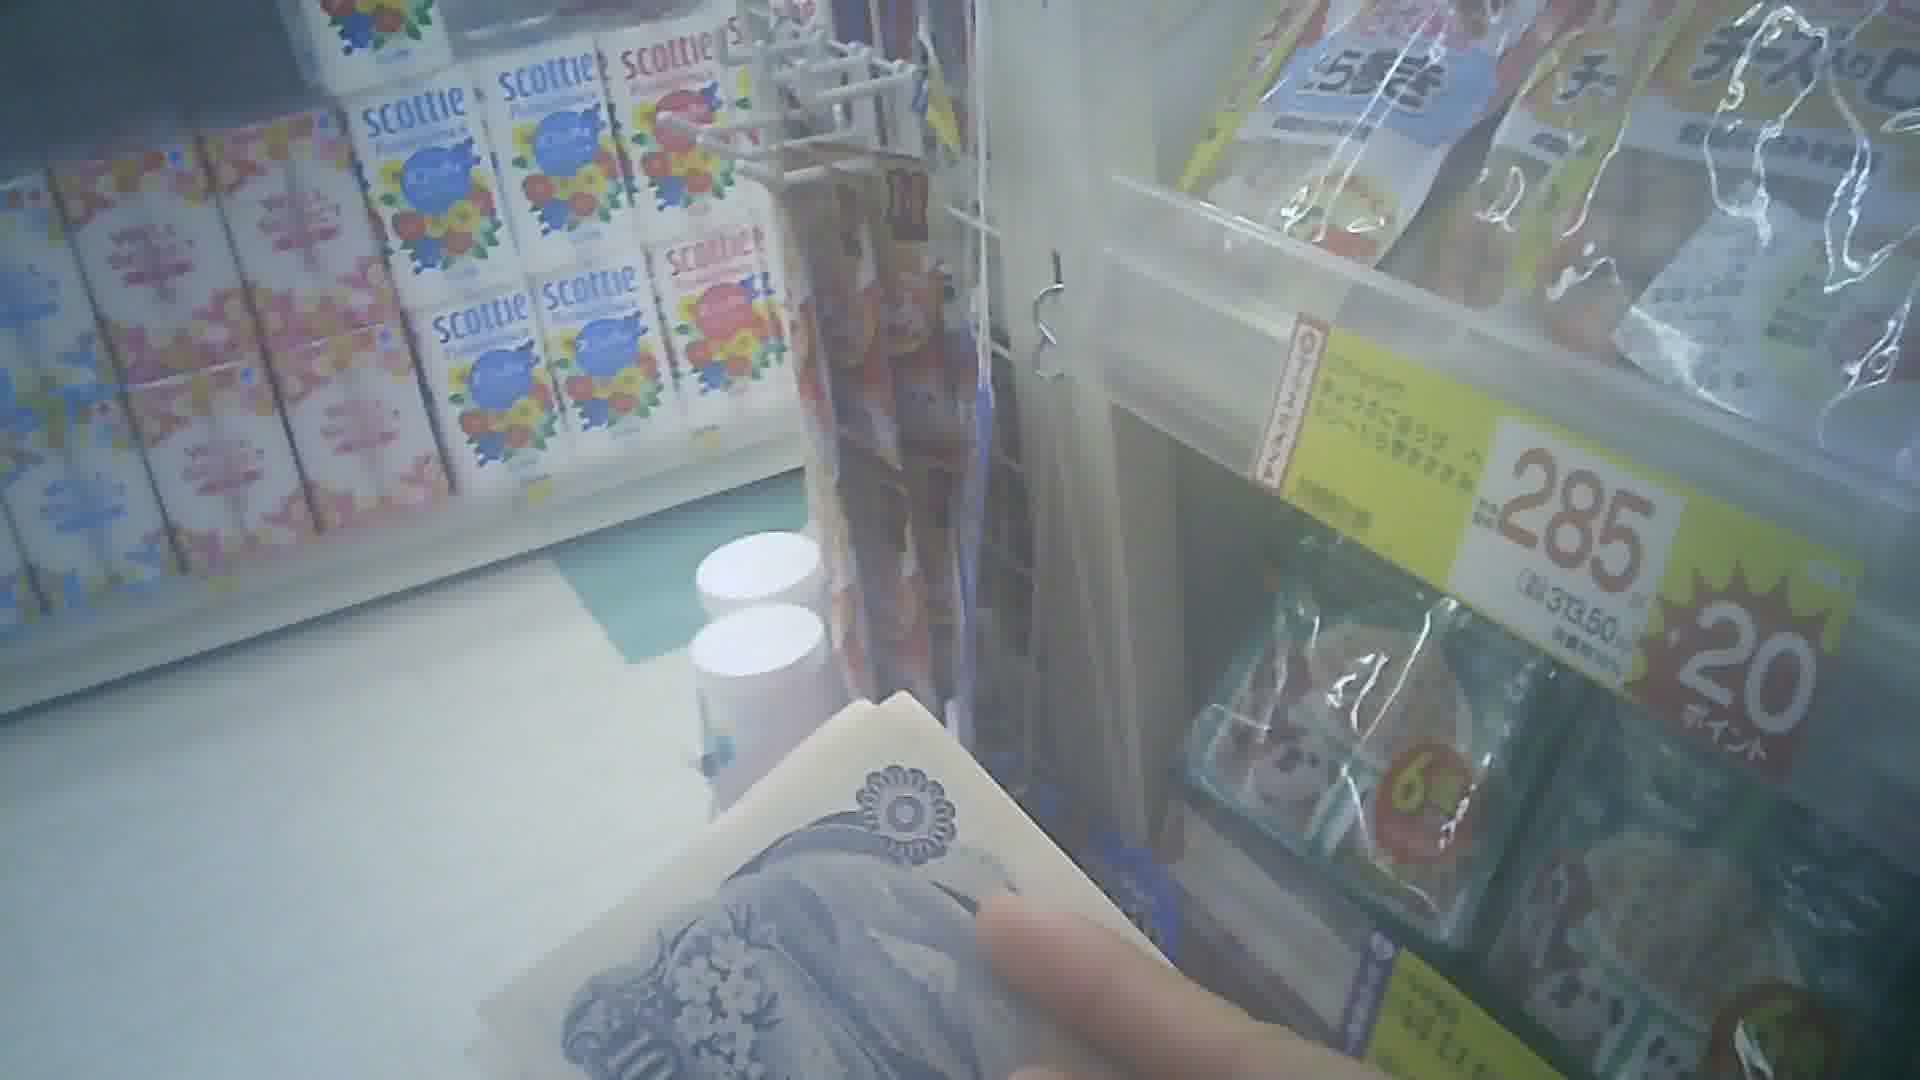1,000 Yen: (477, 696, 1179, 1073)
